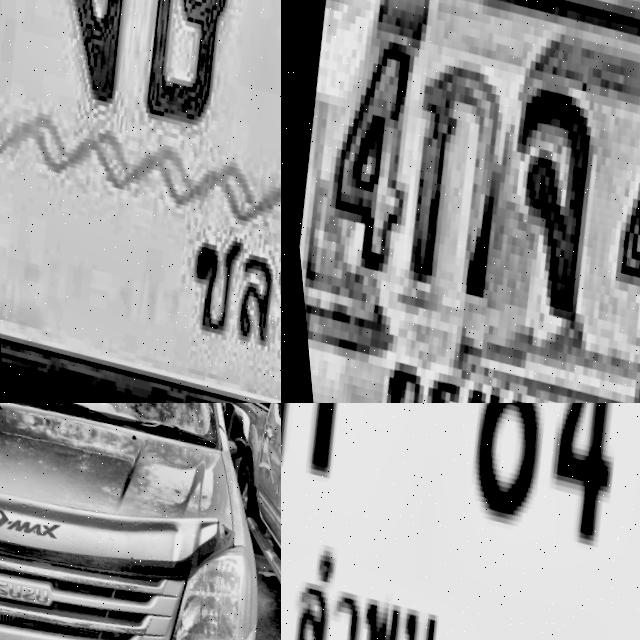license-plate: (281, 0, 640, 403), (0, 0, 281, 403), (281, 403, 640, 640)
